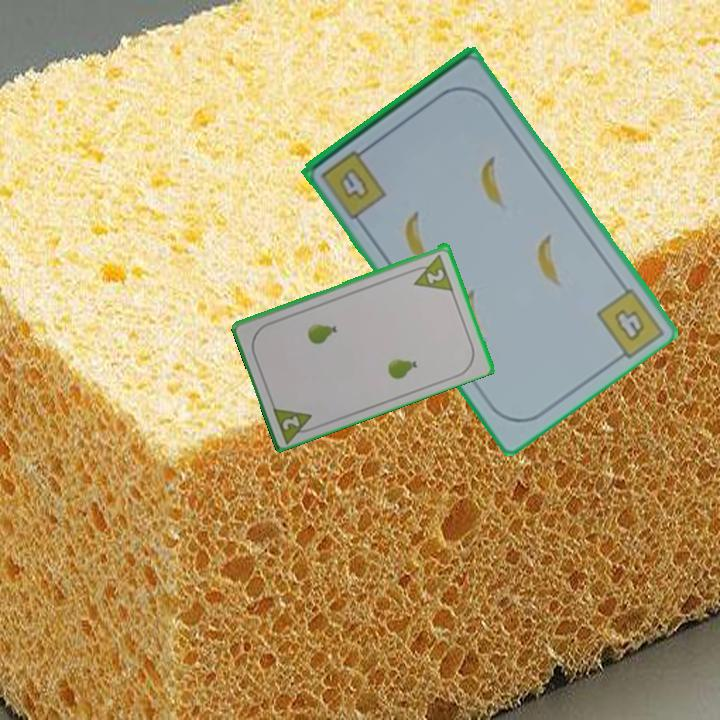2p: (269, 401, 320, 445), (406, 250, 456, 293)
4b: (317, 142, 390, 222), (611, 305, 649, 345)
